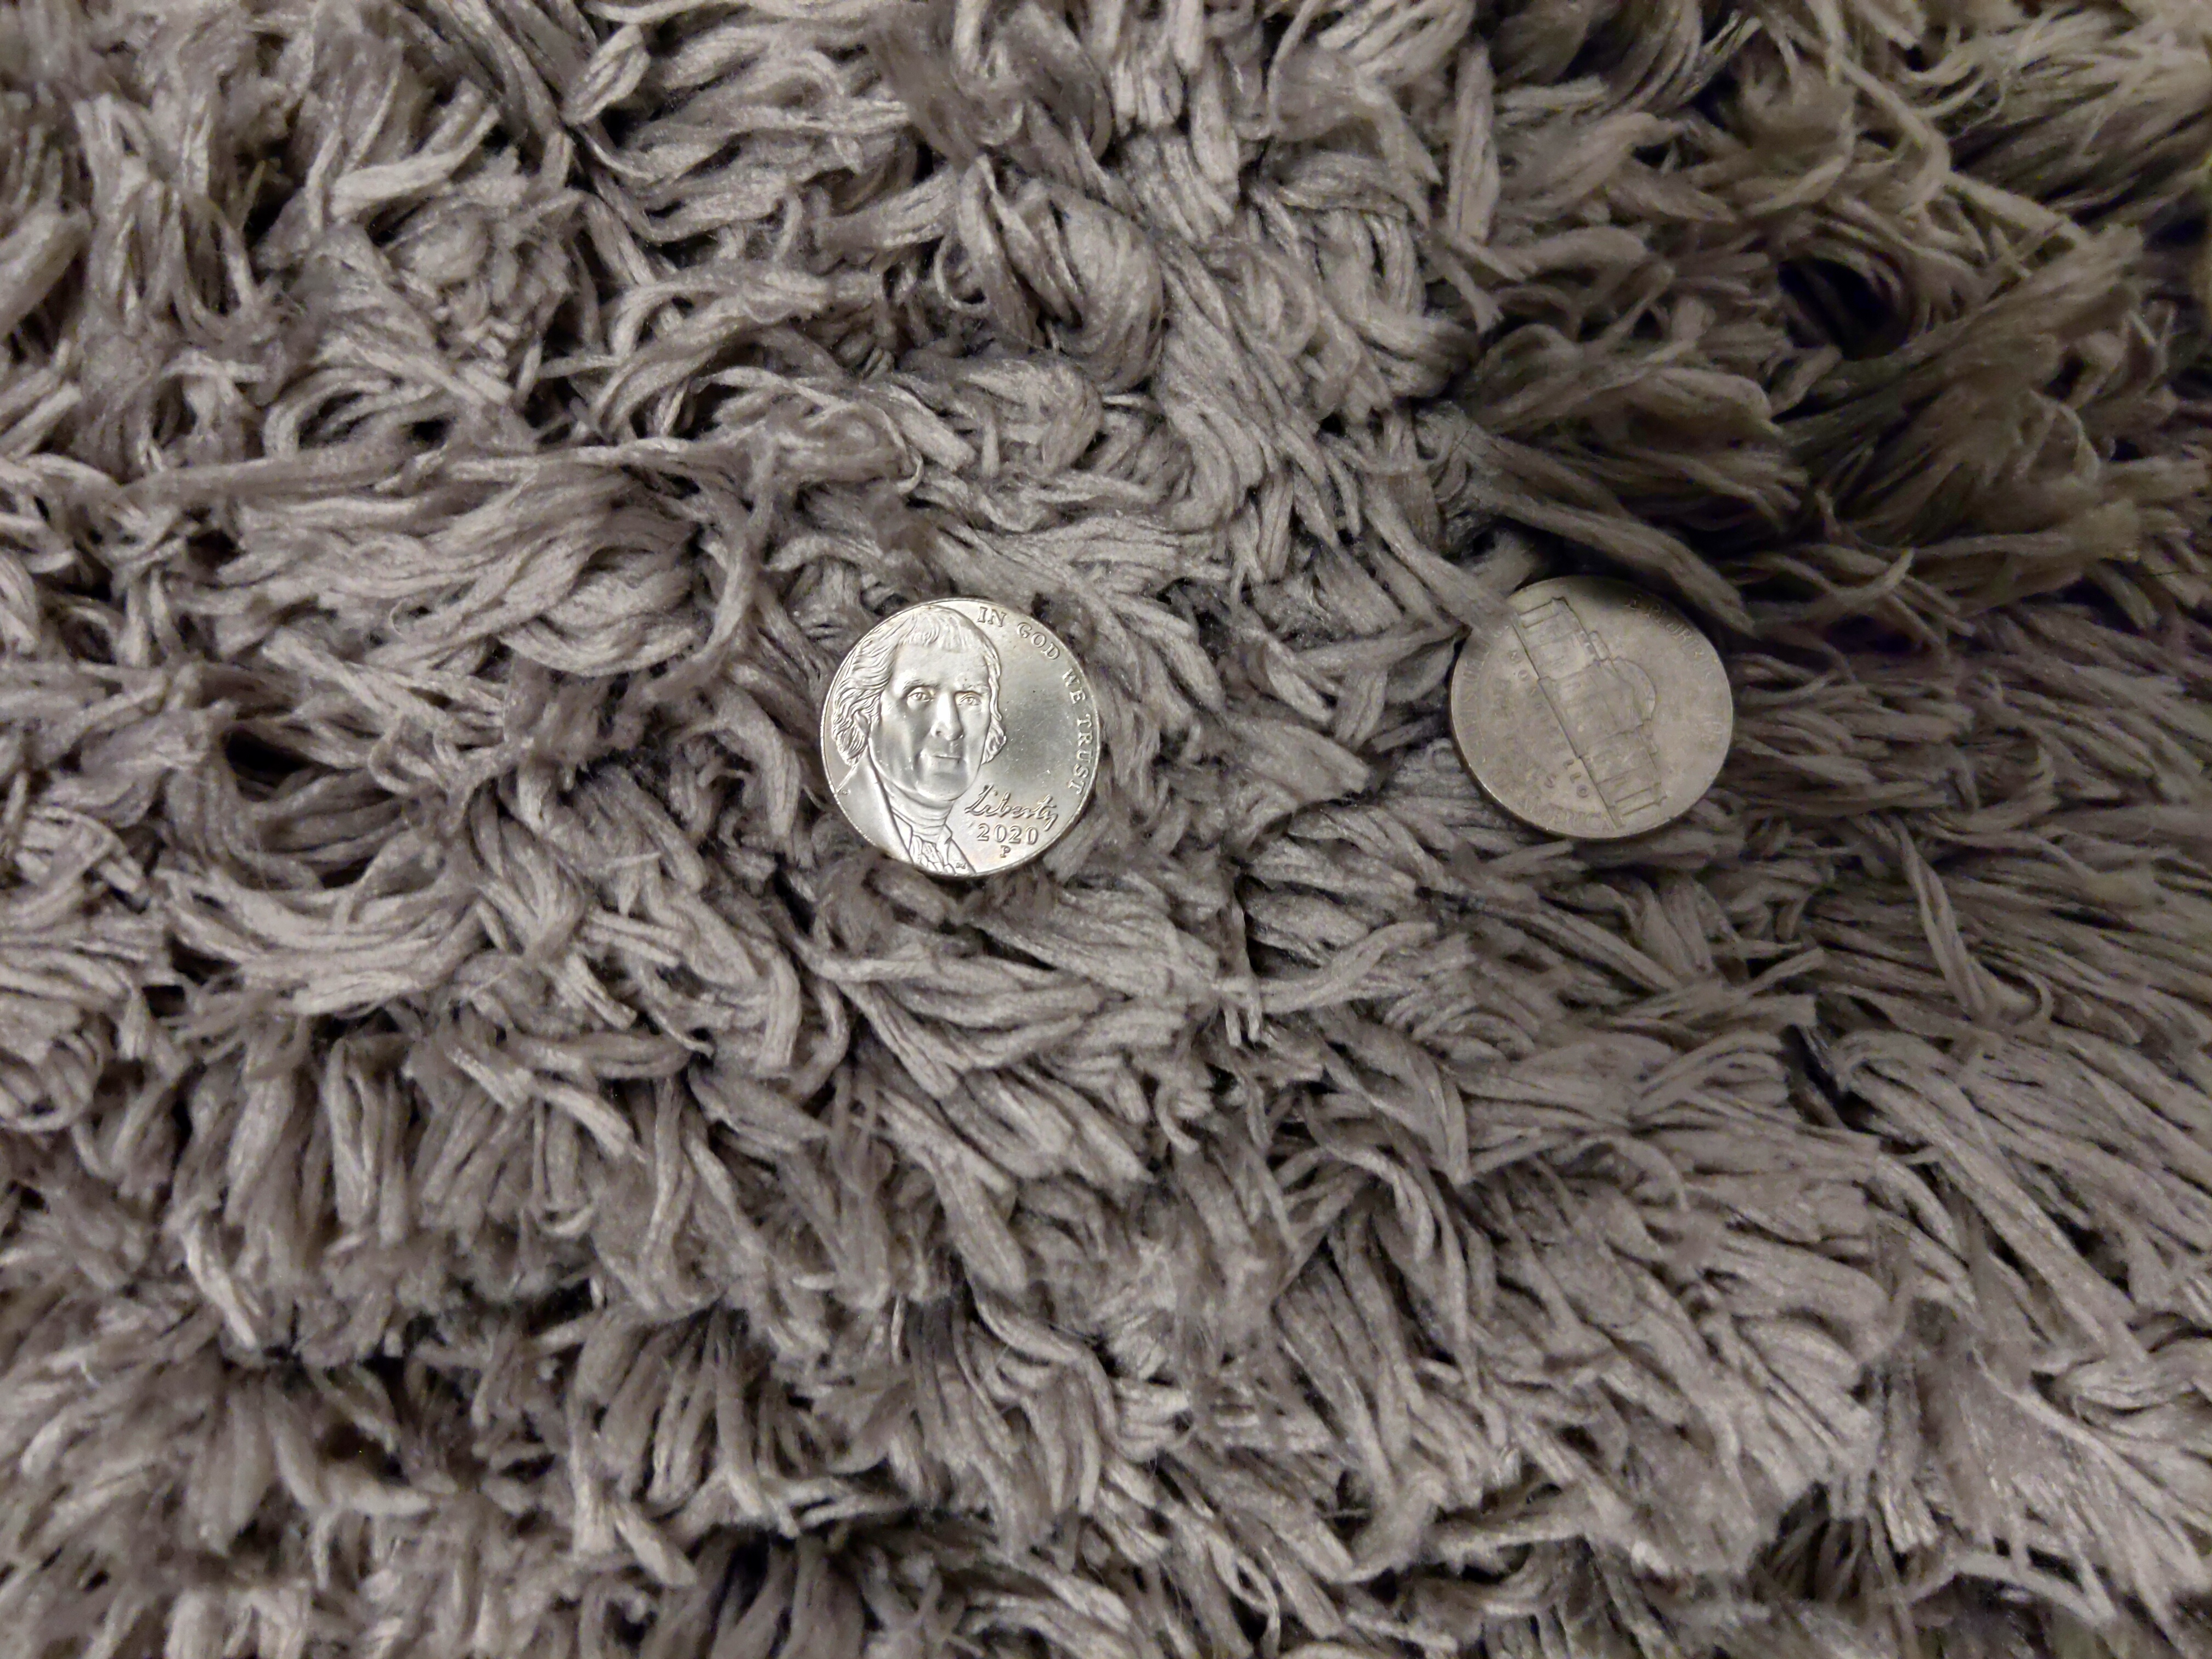Nickel: (815, 594, 1108, 880), (1447, 565, 1740, 847)
